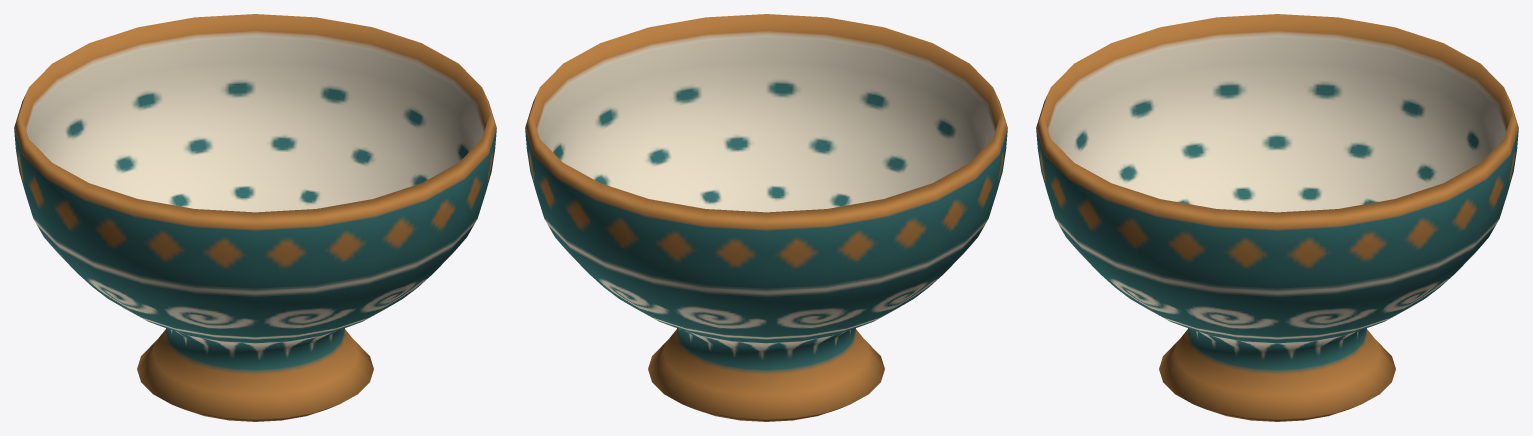
The model's file is prop-bowl-b.glb.
3 views of the same model, side by side, from view 1: azimuth 30°, elevation 25°; view 2: azimuth 150°, elevation 25°; view 3: azimuth 270°, elevation 25° (orthographic).
Parts seen in each view (by area): view 1: piece_PaintedBowlB; view 2: piece_PaintedBowlB; view 3: piece_PaintedBowlB.
Part boxes in pixels (<box>): piece_PaintedBowlB: <box>14,14,496,421</box>; piece_PaintedBowlB: <box>525,14,1007,421</box>; piece_PaintedBowlB: <box>1036,14,1518,421</box>.
Bounding box in the file's own units: 0.1618 × 0.0983 × 0.1618.
1 material, 1 textured.
